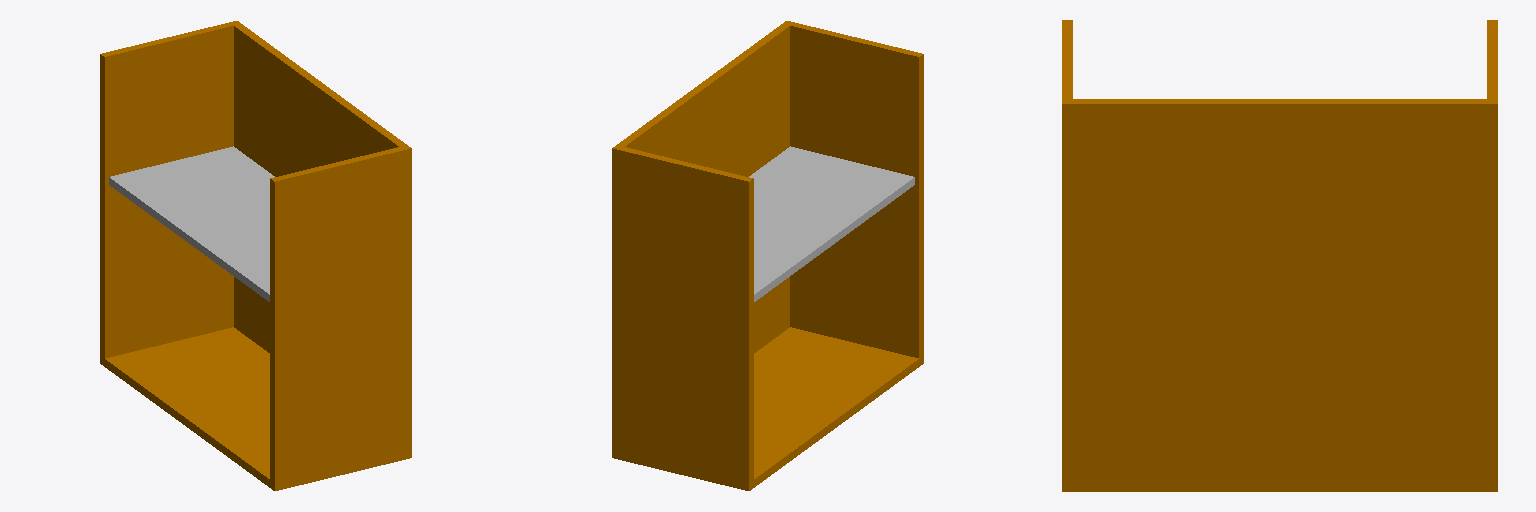
The robot description file, URDF, robot "myfirst":
<?xml version="1.0"?>
 <robot name="myfirst">
   <material name="silver">
     <color rgba="0.75294118 0.75294118 0.75294118 1"/>
   </material>
   <material name="yellow_brown">
     <color rgba="0.76078431 0.49019608 0.00000000 1"/>
   </material>
   
   <link name="left">
     <visual>
       <geometry>
         <box size="0.33 0.694 0.0185"/>
       </geometry>
       <origin rpy="1.57075 0 0" xyz="0 0 0"/>
       <material name="yellow_brown"/>
     </visual>
     <collision>
       <geometry>
         <box size="0.33 0.694 0.0185"/>
       </geometry>
       <origin rpy="1.57075 0 0" xyz="0 0 0"/>
     </collision>
     <inertial>
       <mass value="0.75"/>
       <inertia ixx="1.0" ixy="0.0" ixz="0.0" iyy="1.0" iyz="0.0" izz="1.0"/>
     </inertial>
   </link>
   
   <link name="right">
     <visual>
       <geometry>
         <box size="0.33 0.694 0.0185"/>
       </geometry>
       <origin rpy="1.57075 0 0" xyz="0 0 0"/>
       <material name="yellow_brown"/>
     </visual>
     <collision>
       <geometry>
         <box size="0.33 0.694 0.0185"/>
       </geometry>
       <origin rpy="1.57075 0 0" xyz="0 0 0"/>
     </collision>
     <inertial>
       <mass value="0.75"/>
       <inertia ixx="1.0" ixy="0.0" ixz="0.0" iyy="1.0" iyz="0.0" izz="1.0"/>
     </inertial>
   </link>
   
   <link name="back">
     <visual>
       <geometry>
         <box size="0.6915 0.694 0.019"/>
       </geometry>
       <origin rpy="1.57075 0 1.57075" xyz="0 0 0"/>
       <material name="yellow_brown"/>
     </visual>
     <collision>
       <geometry>
         <box size="0.6915 0.694 0.019"/>
       </geometry>
       <origin rpy="1.57075 0 1.57075" xyz="0 0 0"/>
     </collision>
     <inertial>
       <mass value="0.75"/>
       <inertia ixx="1.0" ixy="0.0" ixz="0.0" iyy="1.0" iyz="0.0" izz="1.0"/>
     </inertial>
   </link>
   
   <link name="bottom">
     <visual>
       <geometry>
         <box size="0.33 0.7285 0.019"/>
       </geometry>
       <origin rpy="0 0 0" xyz="0 0 0"/>
       <material name="yellow_brown"/>
     </visual>
     <collision>
       <geometry>
         <box size="0.33 0.7285 0.019"/>
       </geometry>
       <origin rpy="0 0 0" xyz="0 0 0"/>
     </collision>
     <inertial>
       <mass value="0.75"/>
       <inertia ixx="1.0" ixy="0.0" ixz="0.0" iyy="1.0" iyz="0.0" izz="1.0"/>
     </inertial>
   </link>
   
   <link name="middle">
     <visual>
       <geometry>
         <box size="0.301 0.6915 0.018"/>
       </geometry>
       <origin rpy="0 0 0" xyz="0 0 0"/>
       <material name="silver"/>
     </visual>
     <collision>
       <geometry>
         <box size="0.301 0.6915 0.018"/>
       </geometry>
       <origin rpy="0 0 0" xyz="0 0 0"/>
     </collision>
     <inertial>
       <mass value="0.75"/>
       <inertia ixx="1.0" ixy="0.0" ixz="0.0" iyy="1.0" iyz="0.0" izz="1.0"/>
     </inertial>
   </link>
   
   <joint name="back_to_left" type="fixed">
     <parent link="back"/>
     <child link="left"/>
     <origin xyz="-0.1555 0.355 0"/>
   </joint>
   
   <joint name="back_to_right" type="fixed">
     <parent link="back"/>
     <child link="right"/>
     <origin xyz="-0.1555 -0.355 0"/>
   </joint>
   
   <joint name="back_to_bottom" type="fixed">
     <parent link="back"/>
     <child link="bottom"/>
     <origin xyz="-0.1555 -0.0 -0.3565"/>
   </joint>
   
   <joint name="back_to_middle" type="fixed">
     <parent link="back"/>
     <child link="middle"/>
     <origin xyz="-0.16 -0.0 0.06"/>
   </joint>
  
 </robot>

--- Render facts (derived) ---
3 views of the same robot in one strip: view 1: azimuth 30°, elevation 25°; view 2: azimuth 150°, elevation 25°; view 3: azimuth 270°, elevation 25° (orthographic).
Robot: myfirst — 5 links, 4 joints (4 fixed); root link back; default pose: all joints at 0.
Links seen in each view (by area): view 1: right, left, back, bottom, middle; view 2: left, right, back, bottom, middle; view 3: back, left, right, bottom.
Boxes of the visible links, x1=… form: right: x1=270, y1=145, x2=411, y2=482; left: x1=100, y1=21, x2=240, y2=358; back: x1=234, y1=24, x2=406, y2=352; bottom: x1=100, y1=327, x2=411, y2=490; middle: x1=109, y1=146, x2=274, y2=301; left: x1=612, y1=145, x2=753, y2=482; right: x1=783, y1=21, x2=923, y2=358; back: x1=617, y1=24, x2=789, y2=352; bottom: x1=612, y1=327, x2=923, y2=490; middle: x1=749, y1=146, x2=914, y2=301; back: x1=1073, y1=99, x2=1486, y2=480; left: x1=1487, y1=20, x2=1497, y2=480; right: x1=1062, y1=20, x2=1072, y2=480; bottom: x1=1062, y1=481, x2=1497, y2=491.
Size in the robot's own frame: 0.33 by 0.7285 by 0.713 metres.
Geometry: primitives only (box / cylinder / sphere), no mesh files.